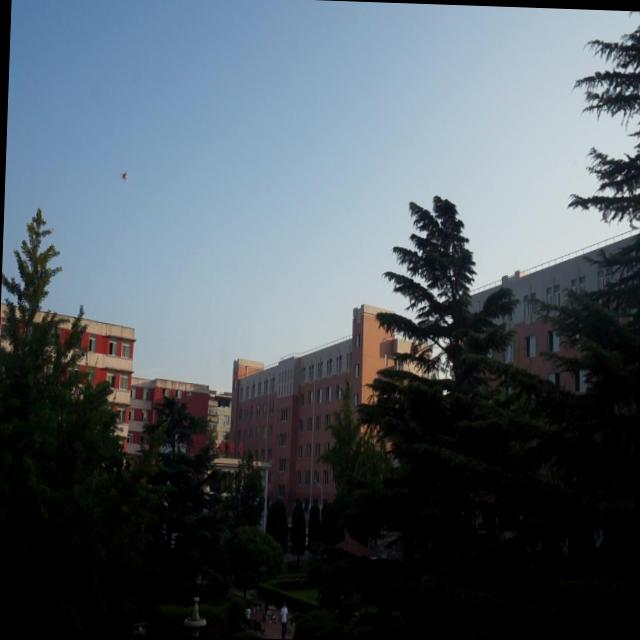drone: (116, 167, 130, 184)
